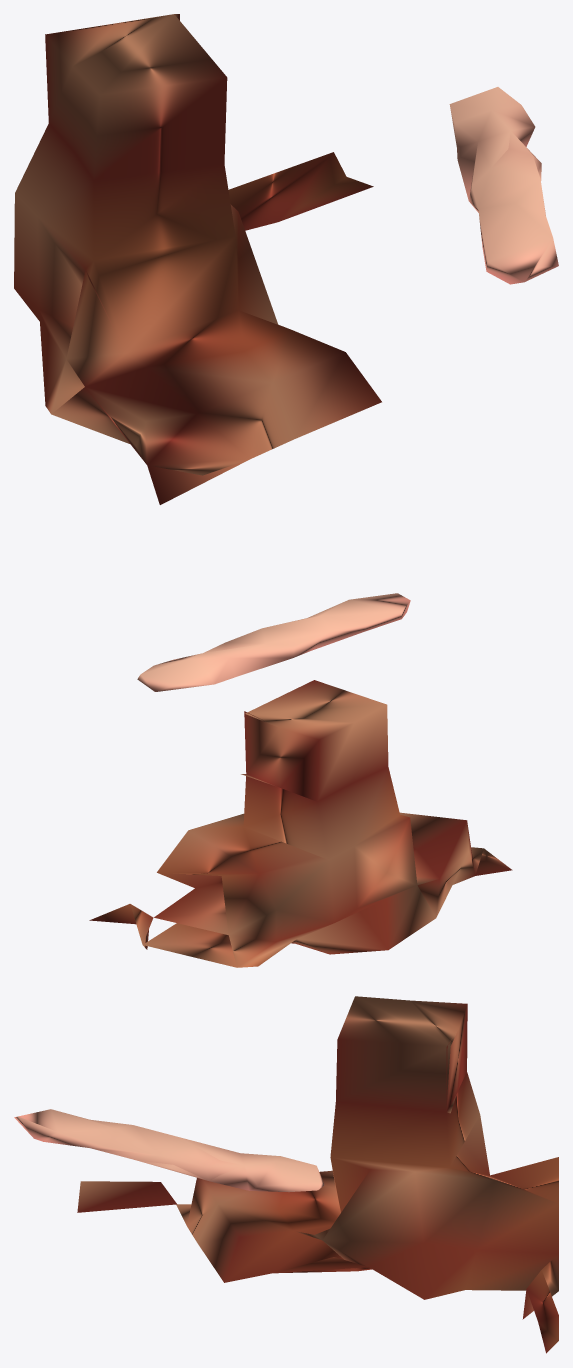
3 views of the same model, one above another, from view 1: azimuth 30°, elevation 25°; view 2: azimuth 150°, elevation 25°; view 3: azimuth 270°, elevation 25° (orthographic). The views are drawn at different scales.
Parts seen in each view (by area): view 1: scene.l1.3.2 (×2); view 2: scene.l1.3.2 (×2); view 3: scene.l1.3.2 (×2).
Boxes of the visible parts, box(x1,y1,x2,y2) form: scene.l1.3.2 (×2): box(14, 14, 558, 504); scene.l1.3.2 (×2): box(89, 593, 512, 967); scene.l1.3.2 (×2): box(14, 996, 558, 1353).
Bounding box in the file's own units: 80.06 × 53.79 × 110.
